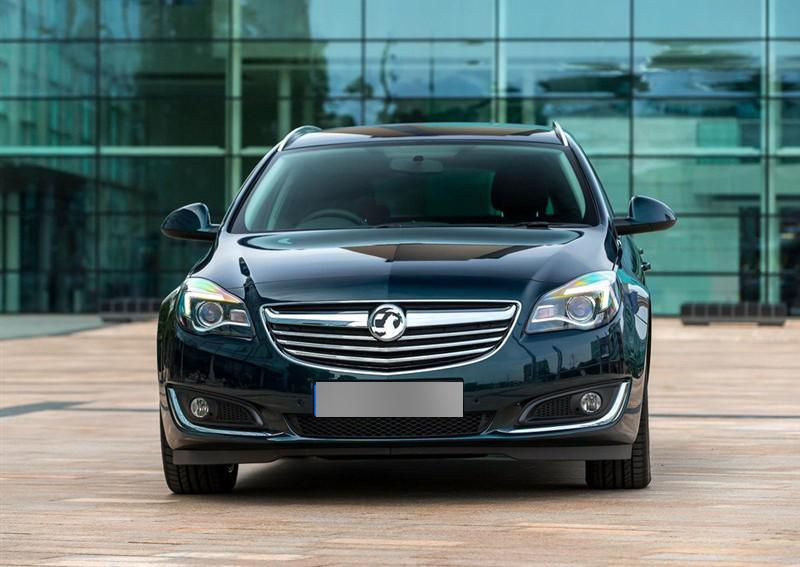Wagon: (155, 121, 679, 497)
